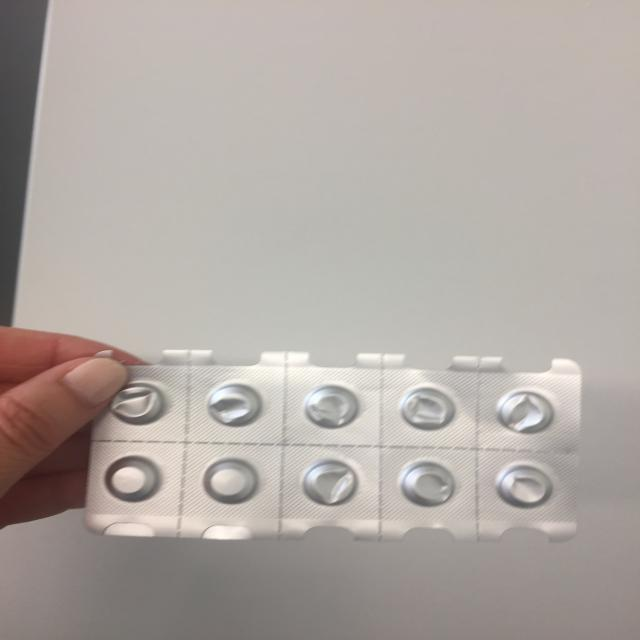Empty: (200, 376, 271, 434), (489, 386, 565, 438), (394, 383, 460, 438), (298, 455, 362, 511), (294, 380, 358, 434), (106, 374, 170, 428), (393, 457, 459, 509), (492, 458, 552, 511)
Pill: (196, 455, 268, 509), (98, 450, 169, 503)
